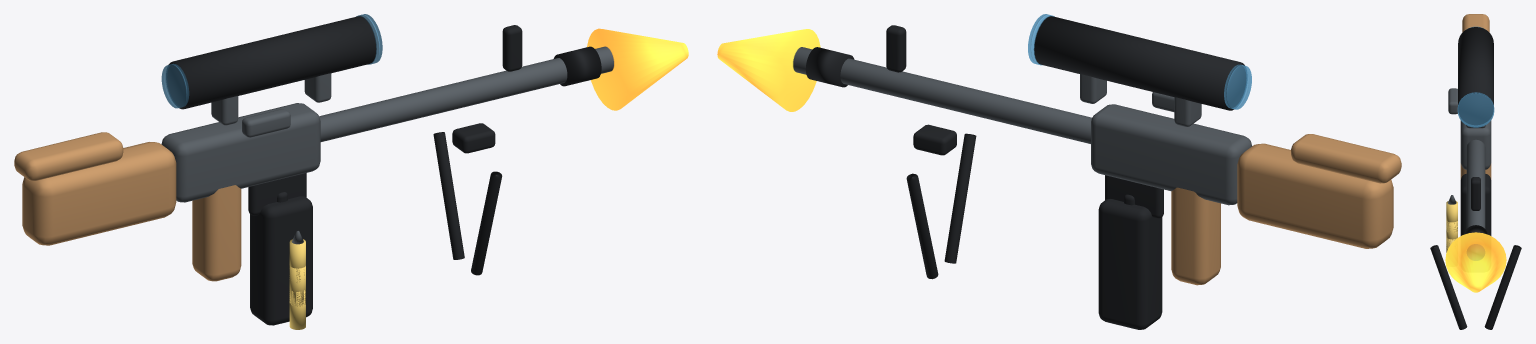
The model's file is cartoon_sniper_rifle.glb.
3 views of the same model, side by side, from view 1: azimuth 30°, elevation 25°; view 2: azimuth 150°, elevation 25°; view 3: azimuth 270°, elevation 25° (orthographic). The views are drawn at different scales.
Visible parts, largest first — view 1: sniper_stock, sniper_scope_tube, sniper_receiver, sniper_barrel, sniper_magazine_body, sniper_muzzle_flash_socket_hidden, sniper_grip, sniper_long_stock_cheek_rest, sniper_bipod_leg_right, sniper_trigger_guard, sniper_bipod_leg_left, sniper_muzzle (+8 smaller); view 2: sniper_stock, sniper_receiver, sniper_scope_tube, sniper_magazine_body, sniper_barrel, sniper_muzzle_flash_socket_hidden, sniper_grip, sniper_long_stock_cheek_rest, sniper_bipod_leg_left, sniper_trigger_guard, sniper_bipod_leg_right, sniper_muzzle (+5 smaller); view 3: sniper_scope_tube, sniper_muzzle_flash_socket_hidden, sniper_barrel, sniper_scope_lens_front, sniper_receiver, sniper_magazine_body, sniper_bipod_leg_left, sniper_bipod_leg_right, sniper_long_stock_cheek_rest, sniper_front_sight, sniper_bullet_03_case, sniper_charging_handle (+3 smaller).
Boxes of the visible parts, x1=… form: sniper_stock: x1=22, y1=142, x2=176, y2=245; sniper_scope_tube: x1=167, y1=16, x2=376, y2=109; sniper_receiver: x1=161, y1=103, x2=320, y2=202; sniper_barrel: x1=319, y1=46, x2=613, y2=141; sniper_magazine_body: x1=250, y1=196, x2=312, y2=325; sniper_muzzle_flash_socket_hidden: x1=587, y1=28, x2=688, y2=110; sniper_grip: x1=192, y1=185, x2=241, y2=281; sniper_long_stock_cheek_rest: x1=14, y1=132, x2=123, y2=180; sniper_bipod_leg_right: x1=433, y1=132, x2=464, y2=259; sniper_trigger_guard: x1=248, y1=173, x2=306, y2=215; sniper_bipod_leg_left: x1=471, y1=171, x2=502, y2=275; sniper_muzzle: x1=553, y1=46, x2=601, y2=86; sniper_stock: x1=1237, y1=143, x2=1393, y2=248; sniper_receiver: x1=1091, y1=104, x2=1251, y2=205; sniper_scope_tube: x1=1034, y1=16, x2=1246, y2=110; sniper_magazine_body: x1=1098, y1=199, x2=1162, y2=329; sniper_barrel: x1=793, y1=47, x2=1091, y2=143; sniper_muzzle_flash_socket_hidden: x1=717, y1=29, x2=820, y2=111; sniper_grip: x1=1171, y1=187, x2=1220, y2=285; sniper_long_stock_cheek_rest: x1=1291, y1=134, x2=1401, y2=183; sniper_bipod_leg_left: x1=944, y1=133, x2=976, y2=263; sniper_trigger_guard: x1=1105, y1=175, x2=1163, y2=218; sniper_bipod_leg_right: x1=906, y1=173, x2=938, y2=279; sniper_muzzle: x1=805, y1=47, x2=854, y2=87; sniper_scope_tube: x1=1458, y1=27, x2=1493, y2=124; sniper_muzzle_flash_socket_hidden: x1=1445, y1=232, x2=1506, y2=292; sniper_barrel: x1=1466, y1=139, x2=1485, y2=260; sniper_scope_lens_front: x1=1457, y1=92, x2=1494, y2=127; sniper_receiver: x1=1460, y1=120, x2=1491, y2=169; sniper_magazine_body: x1=1460, y1=174, x2=1491, y2=235; sniper_bipod_leg_left: x1=1430, y1=245, x2=1467, y2=329; sniper_bipod_leg_right: x1=1484, y1=245, x2=1521, y2=329; sniper_long_stock_cheek_rest: x1=1462, y1=14, x2=1489, y2=32; sniper_front_sight: x1=1471, y1=177, x2=1480, y2=210; sniper_bullet_03_case: x1=1446, y1=201, x2=1457, y2=232; sniper_charging_handle: x1=1448, y1=88, x2=1457, y2=114.
Size of the model in its own units: 3.28 by 1.32 by 0.5375.
